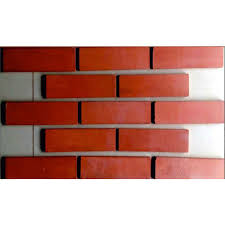brick: (80, 99, 152, 126), (119, 72, 190, 99), (1, 47, 77, 72), (2, 154, 77, 178), (5, 101, 79, 125), (154, 100, 225, 125), (44, 74, 117, 98), (117, 128, 190, 152), (79, 46, 150, 70), (154, 156, 225, 180), (42, 128, 116, 151), (152, 46, 224, 69), (81, 155, 152, 178)
